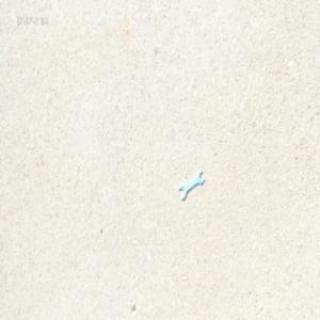Wrenchtrack_idkeyframe: (176, 166, 202, 196)
